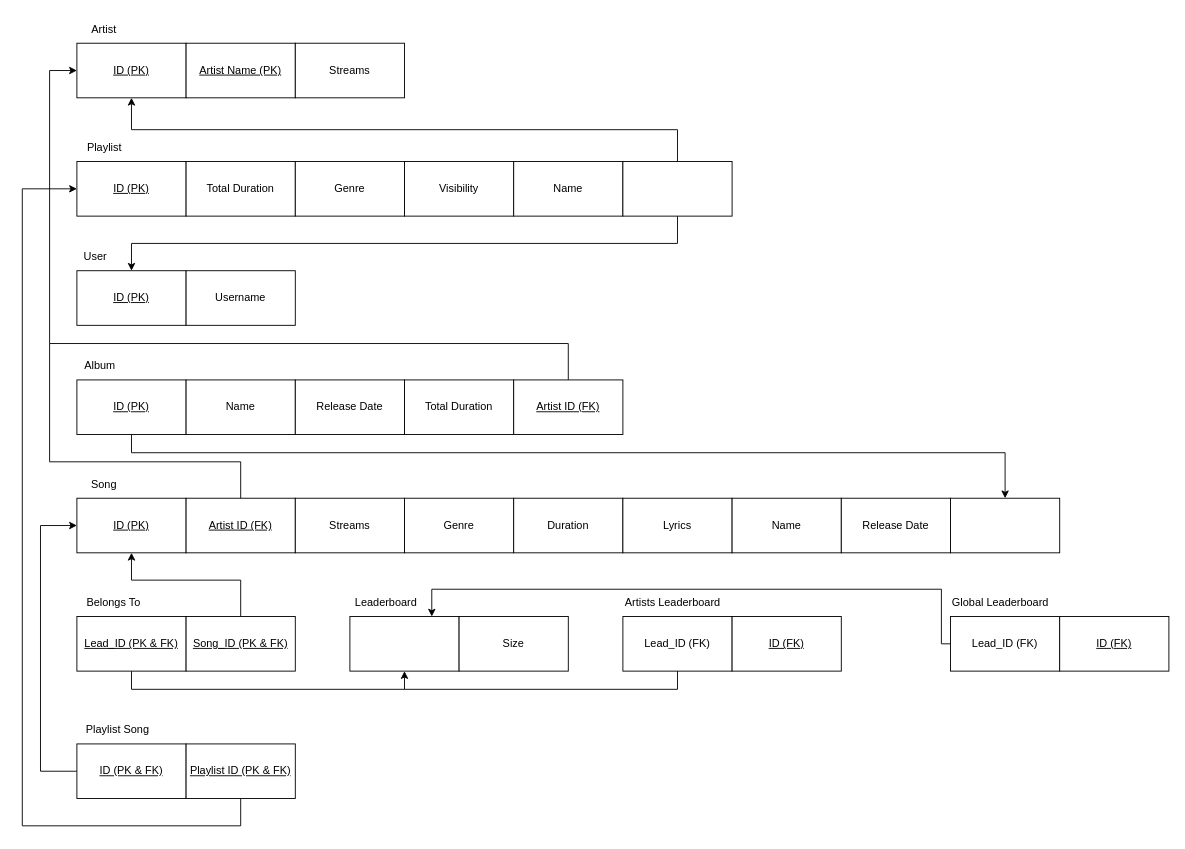
The diagram is 1185 pixels wide and 849 high, and some of its shapes have lost their labels. Here are the shapes that lost their labels. From the top down, the centre of each, then its label:
At [677,188]: "Author ID (FK)".
At [1005,525]: "Album ID (FK)".
At [404,643]: "Lead_ID (PK)".
